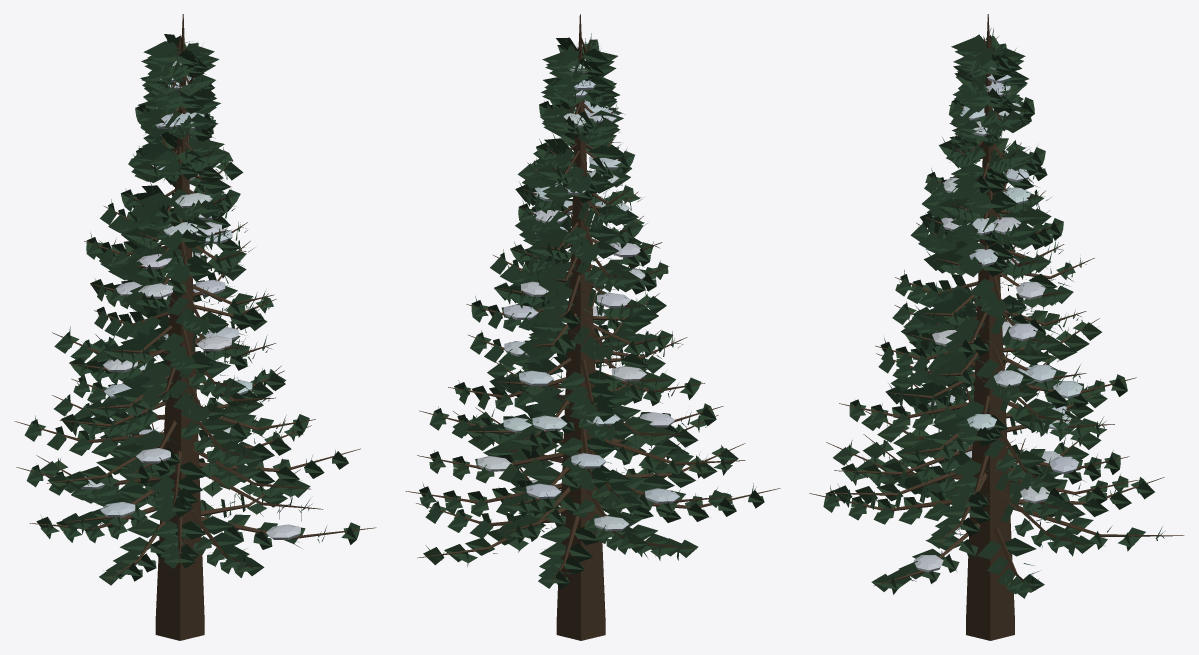
The model's file is pc_spruce_2_lod1.glb.
3 views of the same model, side by side, from view 1: azimuth 30°, elevation 25°; view 2: azimuth 150°, elevation 25°; view 3: azimuth 270°, elevation 25° (orthographic).
Parts seen in each view (by area): view 1: pc_spruce_2_lod1; view 2: pc_spruce_2_lod1; view 3: pc_spruce_2_lod1.
Boxes of the visible parts, left/top/right/bottom form: pc_spruce_2_lod1: left=14, top=14, right=376, bottom=640; pc_spruce_2_lod1: left=405, top=14, right=780, bottom=640; pc_spruce_2_lod1: left=809, top=14, right=1184, bottom=640.
Size of the model in its own units: 5.43 by 10.5 by 5.8.
